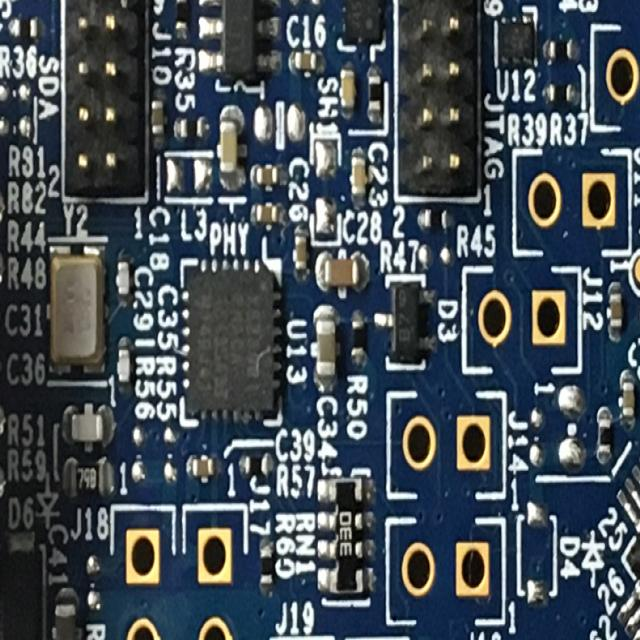IC: (182, 260, 281, 423), (613, 185, 640, 640), (196, 0, 280, 90), (494, 5, 536, 72), (337, 0, 387, 49)
capacitor: (314, 252, 370, 296), (312, 306, 339, 391), (53, 595, 80, 640), (147, 86, 165, 152), (286, 48, 325, 77), (348, 150, 366, 207), (292, 225, 310, 282), (620, 373, 636, 427), (114, 337, 130, 391), (115, 251, 129, 310), (608, 284, 622, 340), (251, 164, 283, 188), (250, 201, 282, 225), (340, 65, 355, 116), (187, 454, 215, 479)
clock: (44, 239, 109, 386)
component text: (396, 284, 412, 344), (337, 506, 352, 560), (76, 463, 96, 490)
connector: (60, 0, 146, 205), (393, 0, 480, 201), (384, 388, 506, 501), (383, 518, 505, 624), (462, 266, 580, 369), (513, 149, 629, 251), (182, 501, 246, 640), (112, 507, 174, 640), (590, 24, 640, 129), (268, 636, 334, 640), (341, 638, 407, 640)
diode: (377, 278, 435, 373), (0, 536, 44, 640)
pads: (514, 498, 556, 602), (311, 132, 339, 244), (251, 96, 306, 152), (554, 381, 586, 476), (163, 148, 216, 200), (528, 401, 547, 476), (128, 422, 146, 488), (0, 77, 36, 108), (0, 110, 32, 143), (162, 424, 178, 486), (285, 0, 324, 12), (0, 459, 8, 506), (0, 395, 6, 446), (637, 291, 640, 372), (0, 185, 5, 227), (0, 352, 1, 384), (0, 302, 1, 334)
resistor: (320, 466, 370, 605), (63, 458, 112, 498), (540, 77, 580, 113), (541, 36, 583, 65), (348, 313, 369, 370), (175, 109, 207, 146), (416, 242, 454, 273), (414, 205, 454, 234), (364, 68, 384, 122), (84, 552, 101, 615), (596, 408, 614, 464), (6, 13, 41, 40), (238, 452, 271, 479), (259, 538, 275, 592), (172, 0, 190, 43), (0, 248, 6, 288)
test point: (628, 249, 640, 297)
unknown: (217, 108, 246, 189), (63, 407, 108, 447)
